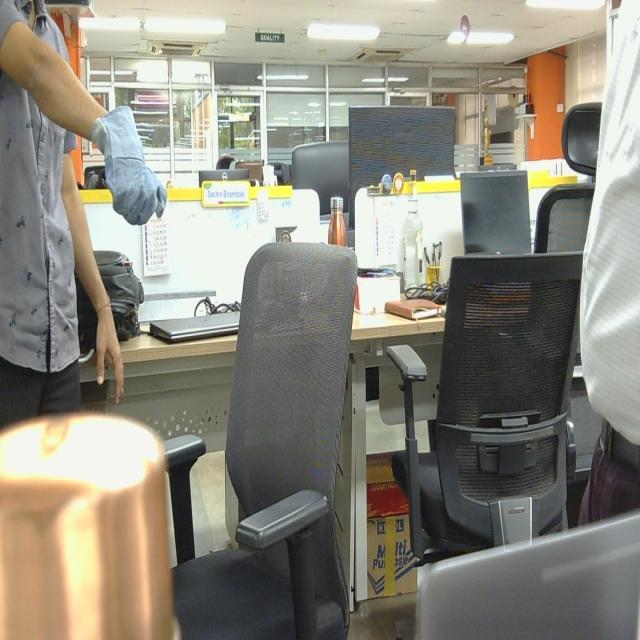Gloves-Detection: (90, 98, 169, 229)
